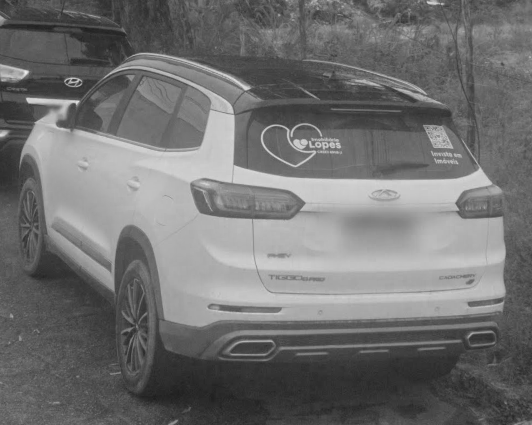car: (19, 51, 508, 418)
